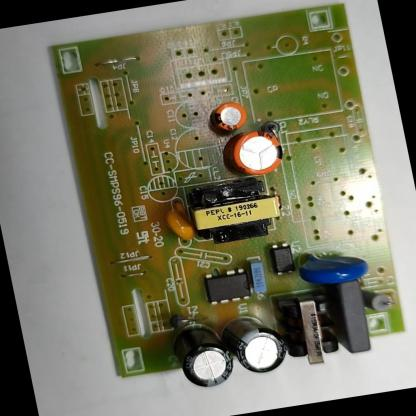Cap1: (228, 122, 289, 180)
Cap2: (209, 100, 251, 136)
Cap3: (223, 310, 294, 380)
Cap4: (171, 319, 238, 392)
MOSFET: (202, 267, 252, 307)
Mov: (296, 242, 372, 290)
Resistor: (362, 283, 396, 317)
Transformer: (186, 174, 288, 250), (276, 291, 344, 369)
